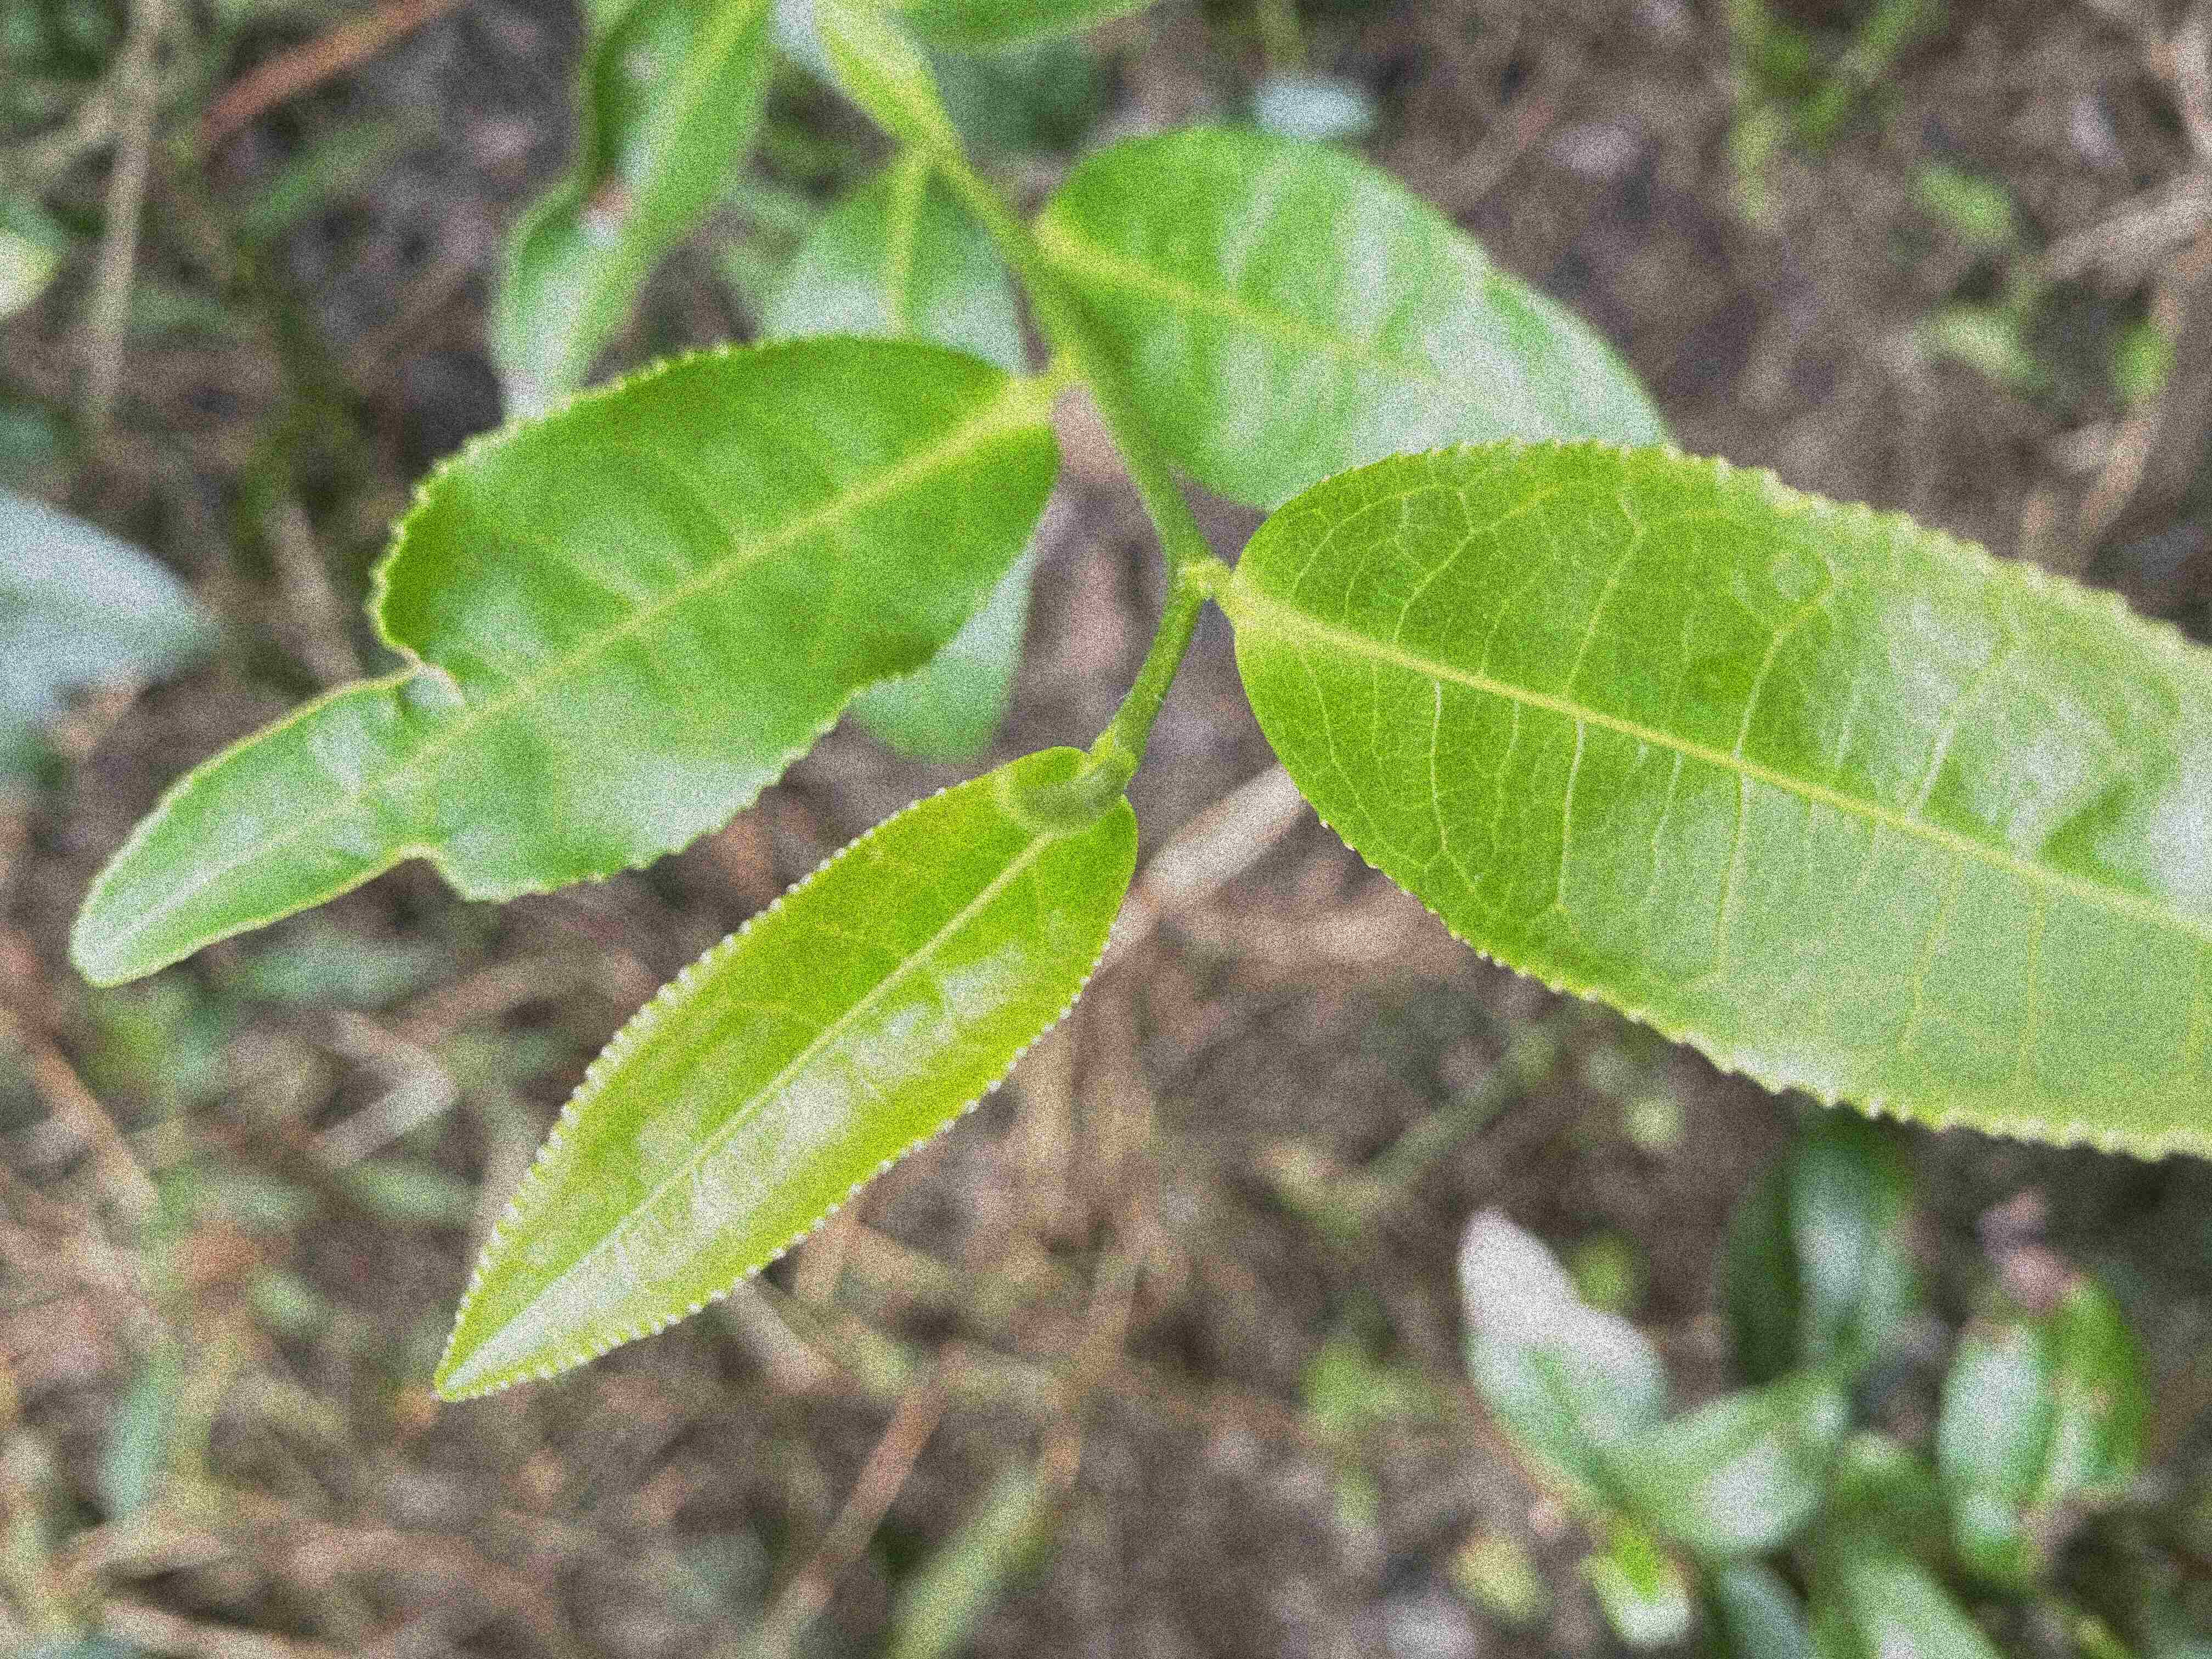chihuo_high: (66, 340, 1057, 990)
healthy: (1230, 437, 2212, 1161), (430, 744, 1141, 1406)
